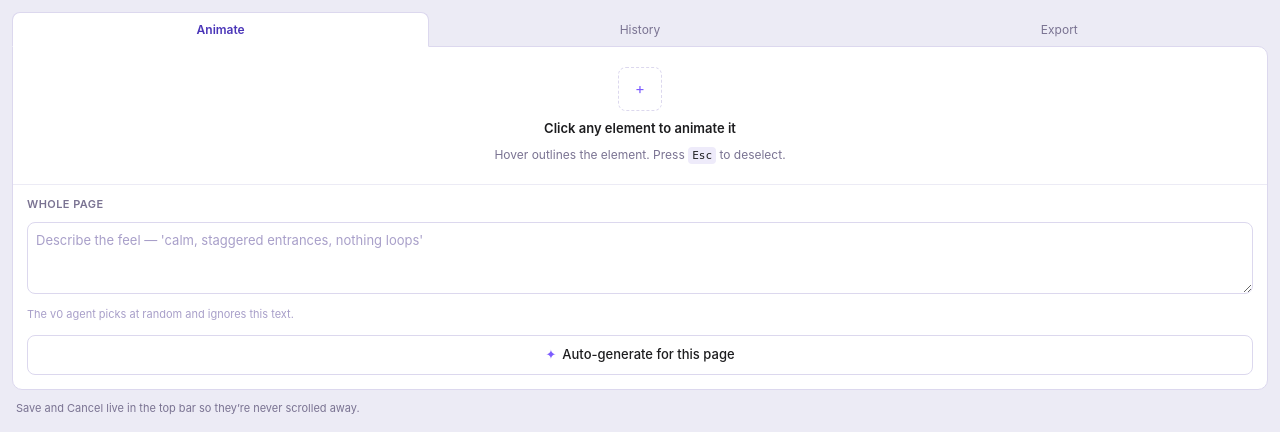
Test: ControlPanel · agent flows (Phase 5) › idle › does not carry a page failure over to another panel
Click the button "✦ Auto-generate for this page" at coordinates (640, 355), box [27,335,1253,375]
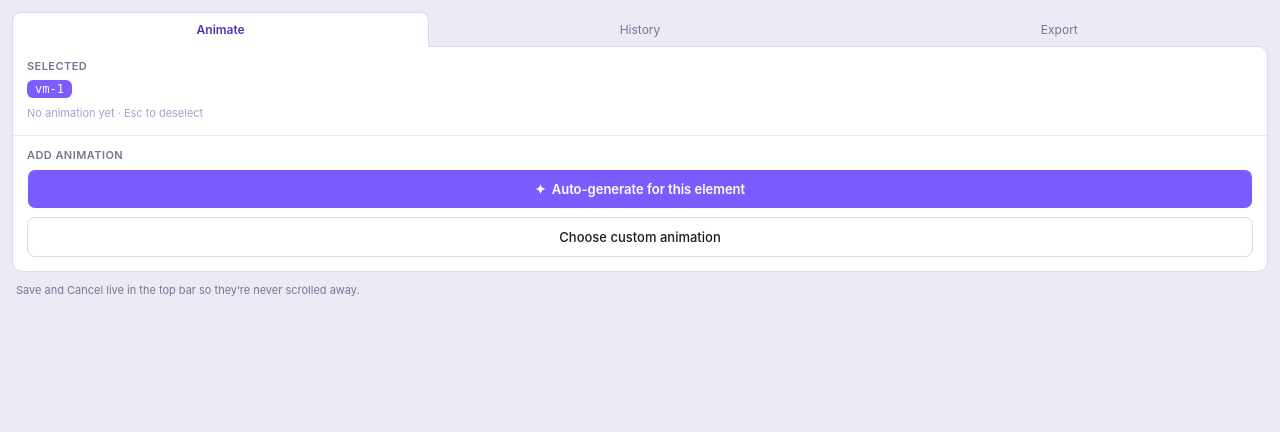
Now the element with test id "panel-selected" is shown, box [12,46,1268,272]
